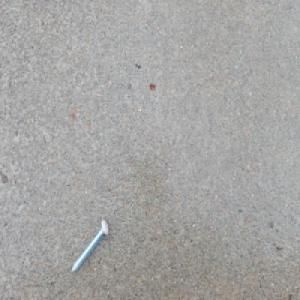Nail: (70, 220, 110, 276)
